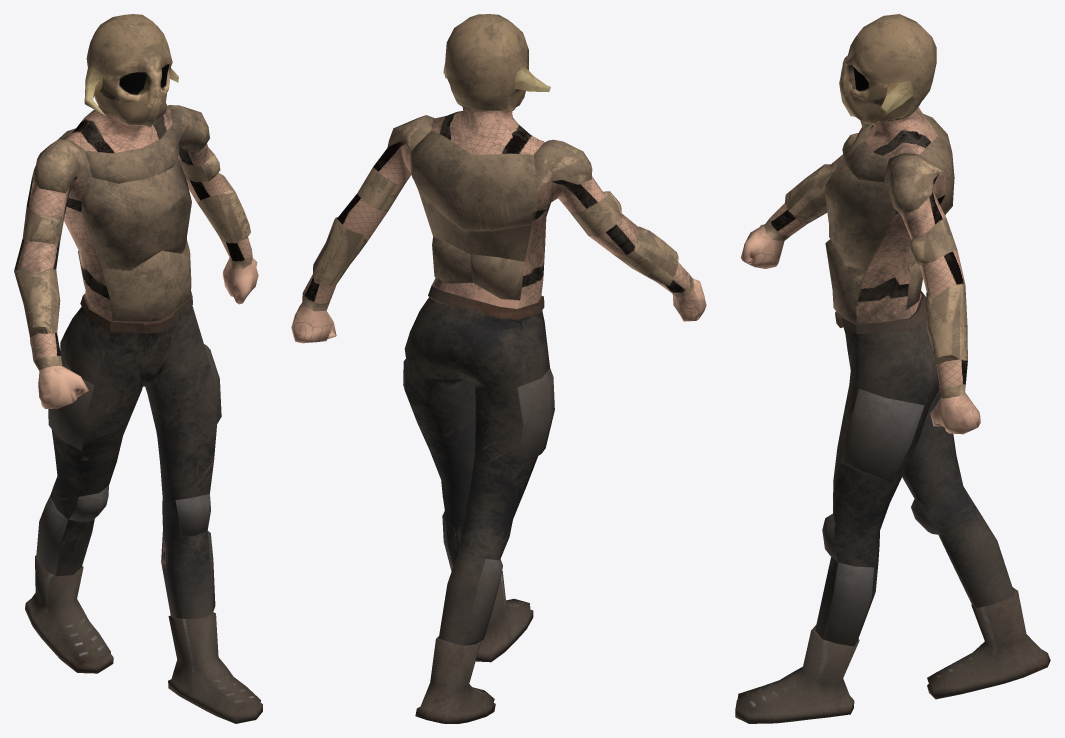
File: Anim_andar_npc1.0034.obj
3 renders of one model, left to right at view 1: azimuth 30°, elevation 25°; view 2: azimuth 150°, elevation 25°; view 3: azimuth 270°, elevation 25°, orthographic. The views are drawn at different scales.
Visible parts, largest first — view 1: Anim_andar_npc1; view 2: Anim_andar_npc1; view 3: Anim_andar_npc1.
Boxes of the visible parts, <box> form: Anim_andar_npc1: <box>14,14,262,723</box>; Anim_andar_npc1: <box>291,14,706,723</box>; Anim_andar_npc1: <box>735,14,1050,723</box>.
Size of the model in its own units: 4.71 by 9.66 by 4.06.
